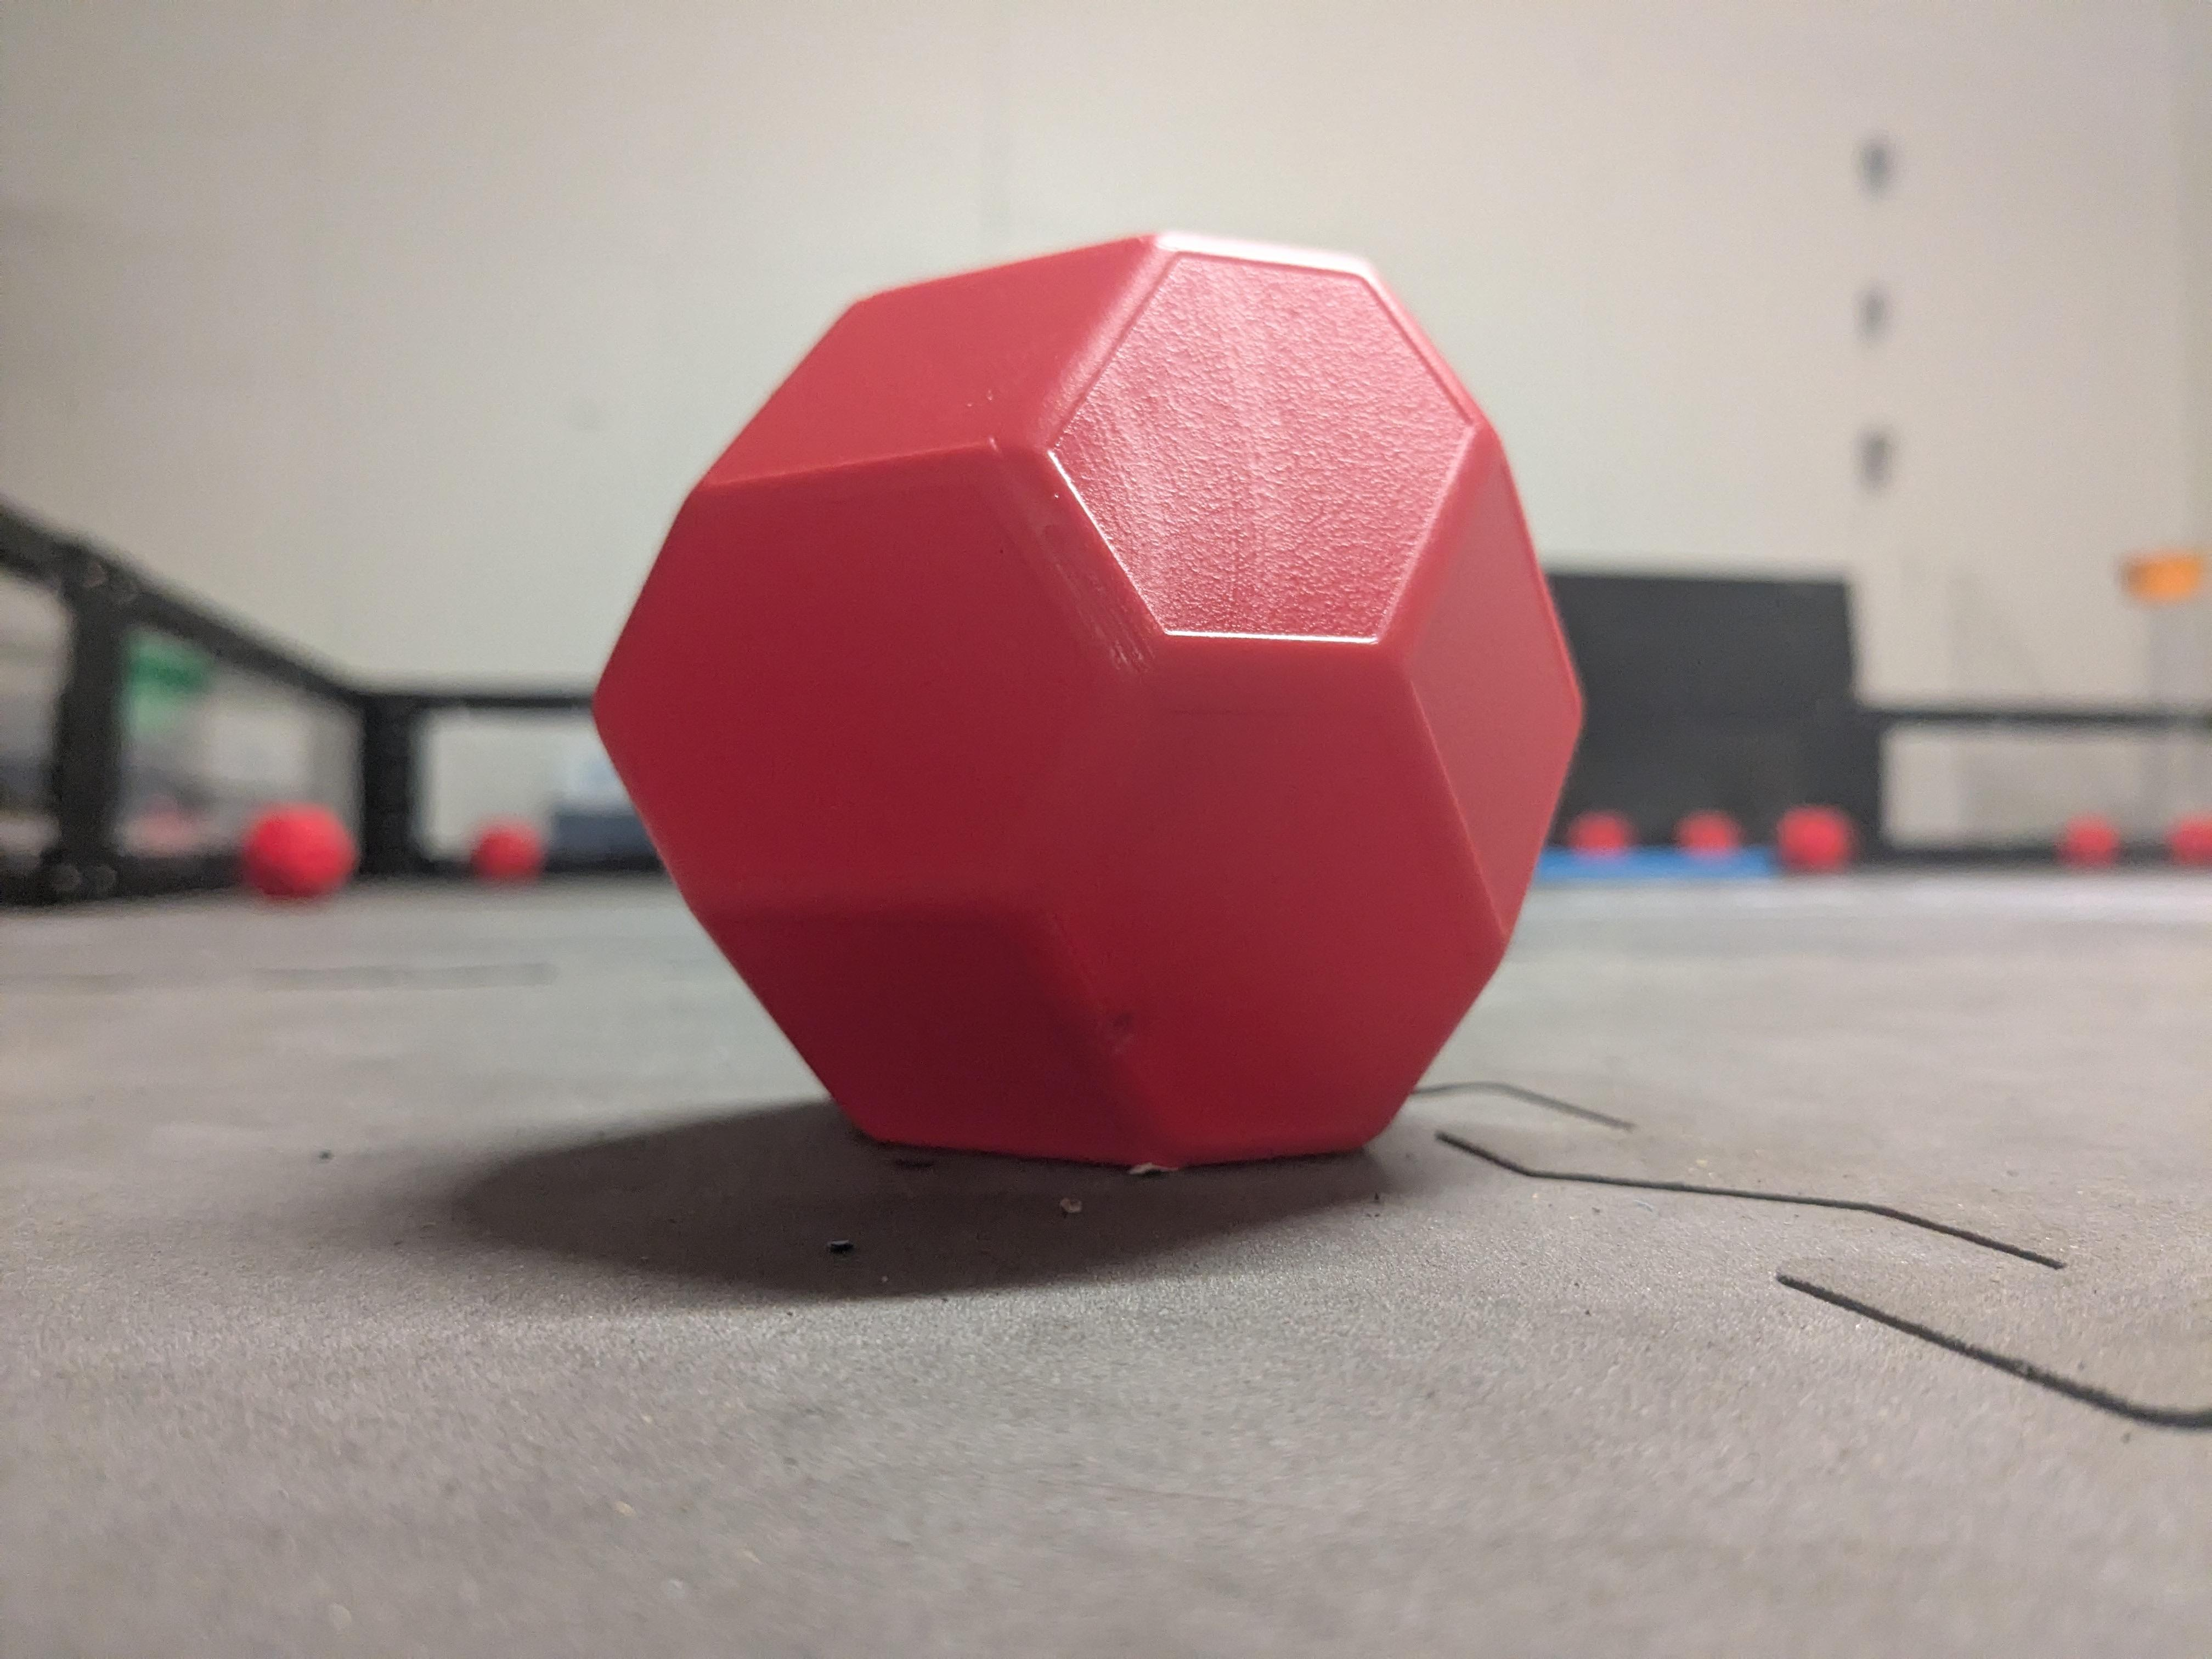Vex-Pieces-RED: (597, 239, 1578, 1162)
